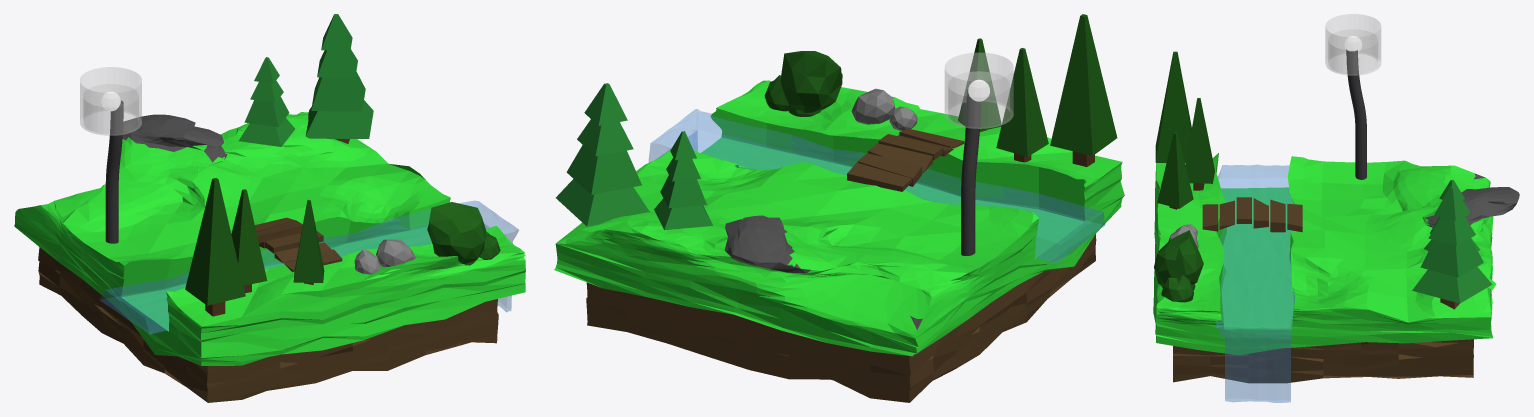
File: island3.glb
The picture shows the model from 3 angles, left to right: view 1: azimuth 30°, elevation 25°; view 2: azimuth 150°, elevation 25°; view 3: azimuth 270°, elevation 25°; orthographic projection. The views are drawn at different scales.
Visible parts, largest first — view 1: Grass, Ground, River, Cube.003, Cube, Cylinder, Icosphere, Cube.004, Cube.002, Cube.005, NurbsPath, Cube.001 (+2 smaller); view 2: Grass, Ground, River, Cube.003, Cube, Cylinder, Cube.005, Icosphere, Cube.002, Cube.004, NurbsPath, Cube.001 (+2 smaller); view 3: Grass, River, Ground, Cube.003, Cylinder, Cube.005, Icosphere, Cube, Cube.002, Cube.001, NurbsPath.
Boxes of the visible parts, <box> form: Grass: <box>14,112,525,365</box>; Ground: <box>38,247,498,402</box>; River: <box>99,201,518,334</box>; Cube.003: <box>305,14,373,143</box>; Cube: <box>185,178,245,316</box>; Cylinder: <box>80,67,141,135</box>; Icosphere: <box>427,202,500,265</box>; Cube.004: <box>238,57,294,146</box>; Cube.002: <box>231,189,267,293</box>; Cube.005: <box>255,217,342,272</box>; NurbsPath: <box>105,100,123,243</box>; Cube.001: <box>293,199,324,284</box>; Grass: <box>554,80,1124,356</box>; Ground: <box>586,234,1096,402</box>; River: <box>649,109,1104,263</box>; Cube.003: <box>556,83,649,226</box>; Cube: <box>1050,14,1117,167</box>; Cylinder: <box>945,53,1013,128</box>; Cube.005: <box>847,129,964,191</box>; Icosphere: <box>764,51,842,116</box>; Cube.002: <box>996,48,1048,162</box>; Cube.004: <box>654,131,713,230</box>; NurbsPath: <box>961,89,980,255</box>; Cube.001: <box>958,38,1001,131</box>; Grass: <box>1153,153,1519,355</box>; River: <box>1216,165,1295,402</box>; Ground: <box>1173,339,1473,383</box>; Cube.003: <box>1412,186,1492,309</box>; Cylinder: <box>1325,14,1380,75</box>; Cube.005: <box>1202,197,1302,232</box>; Icosphere: <box>1154,230,1203,302</box>; Cube: <box>1155,51,1191,162</box>; Cube.002: <box>1185,98,1214,190</box>; Cube.001: <box>1157,132,1193,209</box>; NurbsPath: <box>1346,49,1366,179</box>.
Bounding box in the file's own units: 15.29 × 10.19 × 14.52.
